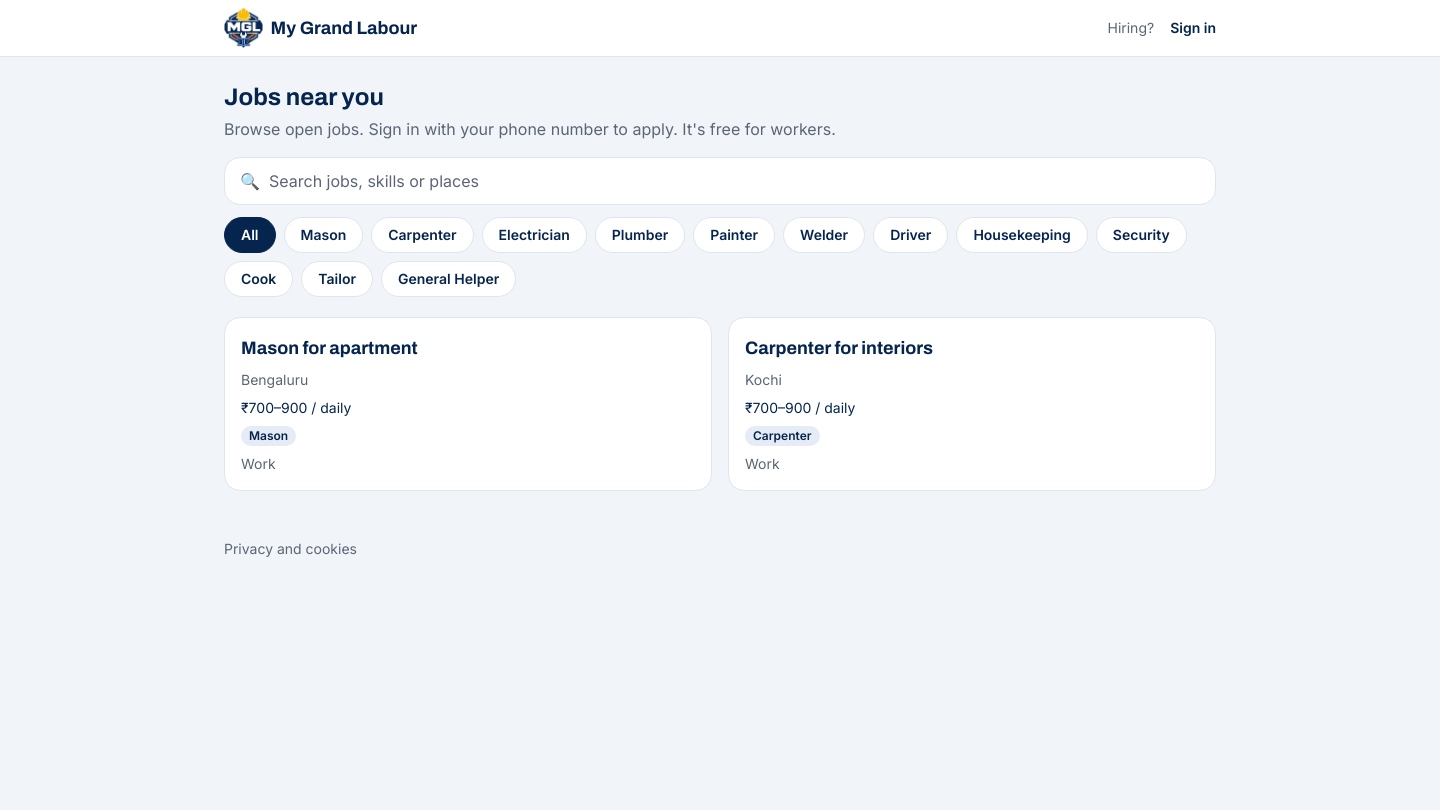
Test: public job list › shows jobs with search and trade chips when signed out
expect the heading "Mason for apartment" is shown: met, box left=241, top=334, right=418, bottom=362
expect the search field named "Search jobs" is shown: met, box left=224, top=157, right=1216, bottom=205
Click the button "Carpenter": [422, 235] box left=371, top=217, right=474, bottom=253
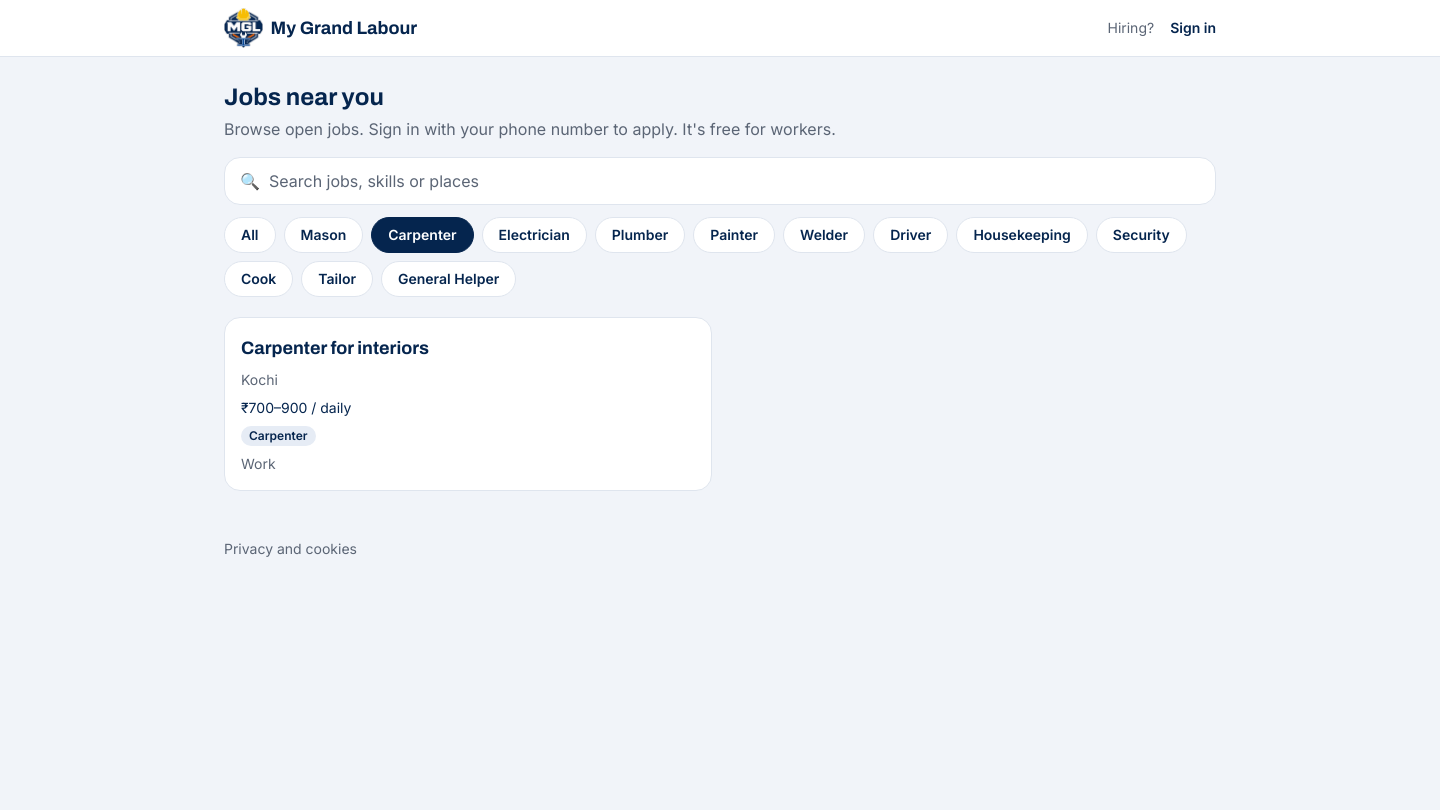
expect the heading "Carpenter for interiors" is shown: met, box left=241, top=334, right=429, bottom=362
expect the link "Mason for apartment" is gone: met
Click the button "All": [250, 235] box left=224, top=217, right=276, bottom=253
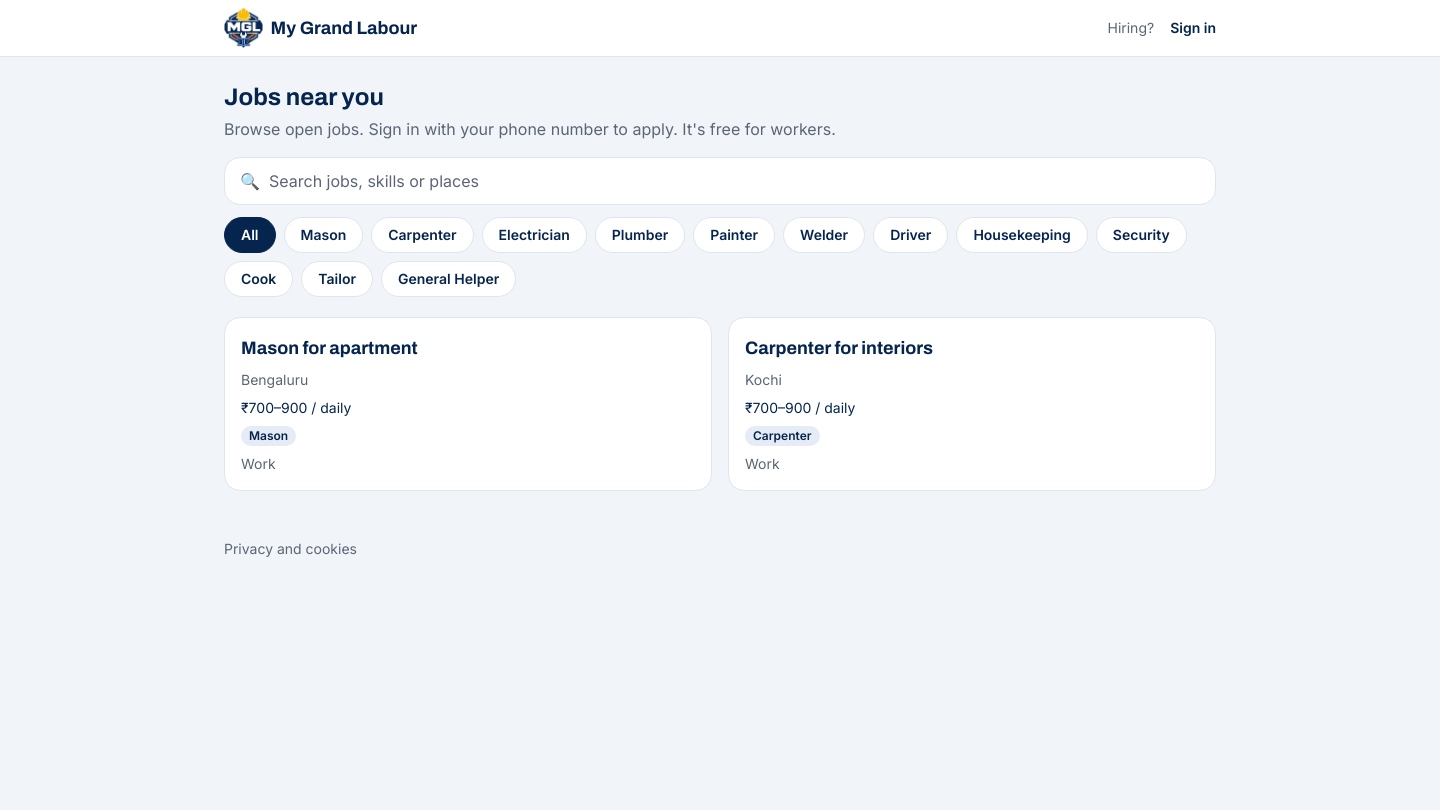
In the search field: [720, 181] box left=224, top=157, right=1216, bottom=205, type "bengaluru"
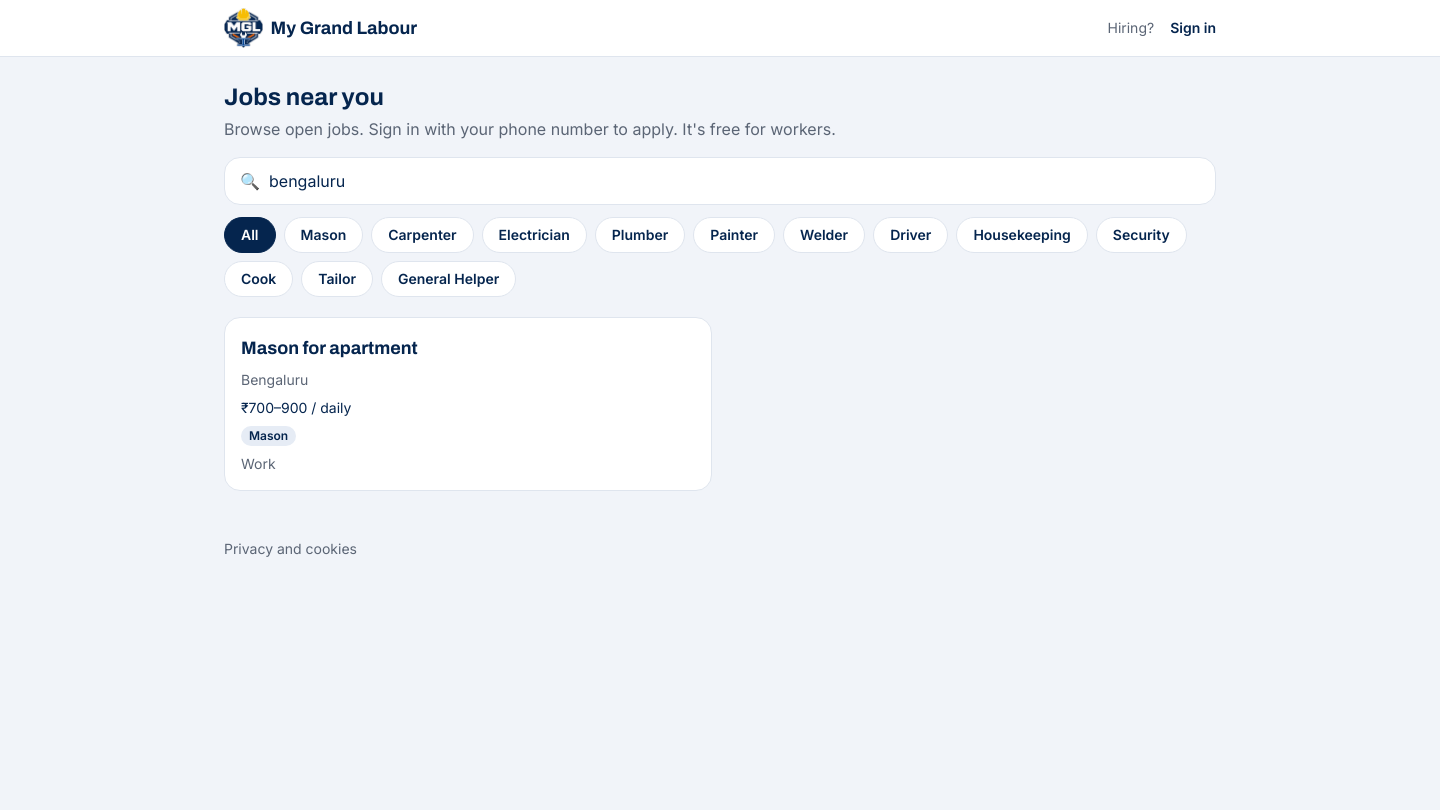
expect the heading "Mason for apartment" is shown: met, box left=241, top=334, right=418, bottom=362
expect the link "Carpenter for interiors" is gone: met
